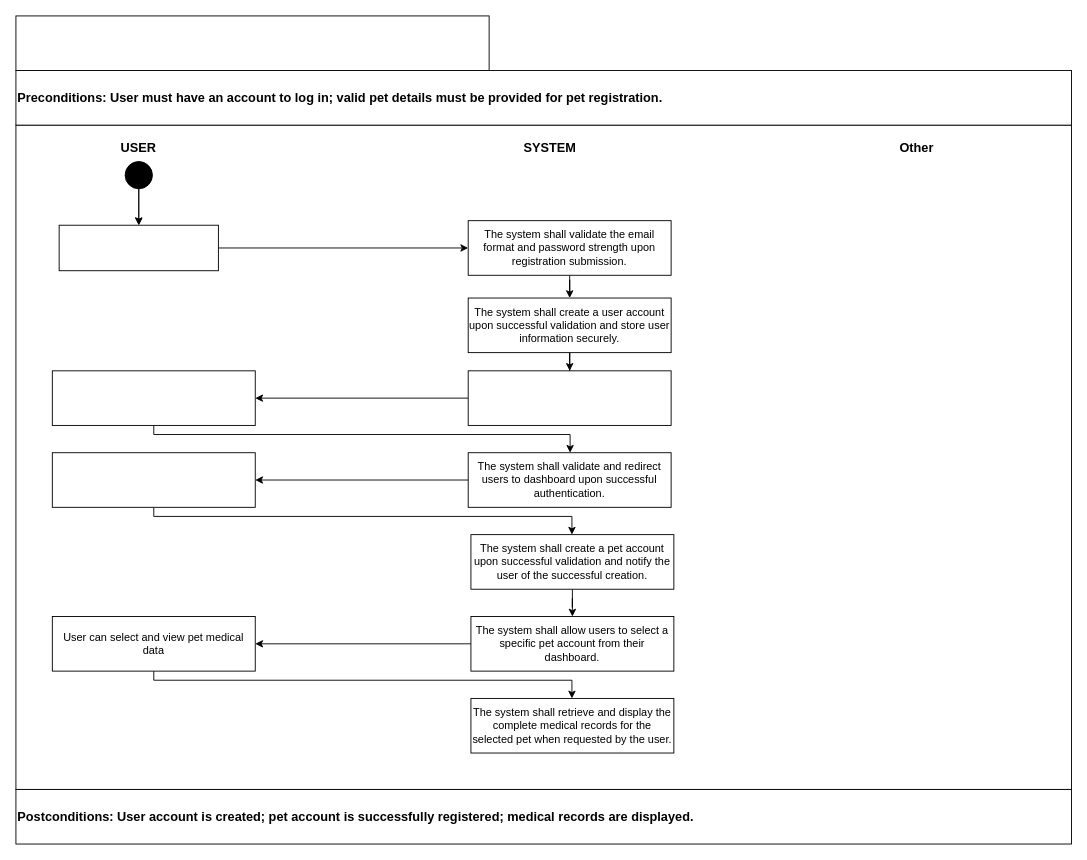
Some shapes in this 1087 by 860 pixel diagram are drawn without their labels. The shapes that lost their labels are listed below. From the top down, each one's centre as x and y in pixels, then its label:
At point (252, 43): "Use Case: Create User Account".
At point (138, 247): "User enters email, password and submit registration".
At point (153, 397): "User enters email, password and submit login form".
At point (569, 397): "The system shall send a confirmation email to the user after account creation.".
At point (153, 479): "User fill in pet details and submit pet registration".
